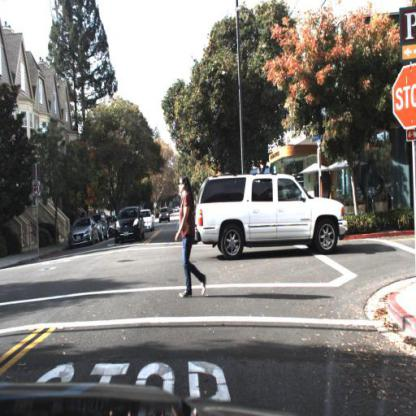car: (196, 173, 347, 256), (112, 208, 146, 240), (69, 219, 97, 244), (96, 213, 112, 243), (143, 209, 155, 234), (158, 207, 172, 228), (159, 206, 170, 228)
pedestrian: (175, 174, 208, 299)
